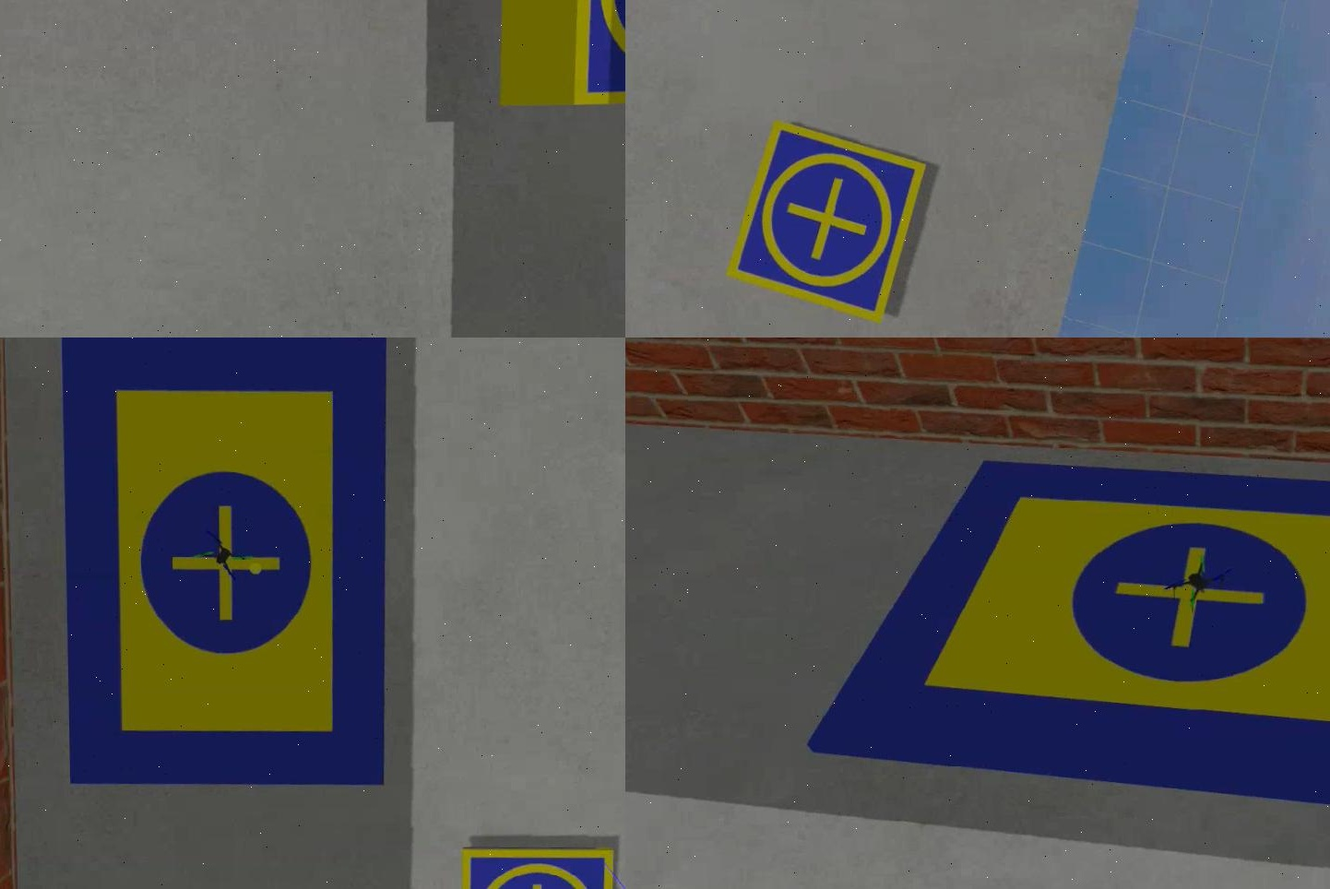large_base: (794, 449, 1328, 831), (63, 338, 394, 790)
small_base: (721, 114, 931, 325), (456, 846, 617, 889)
